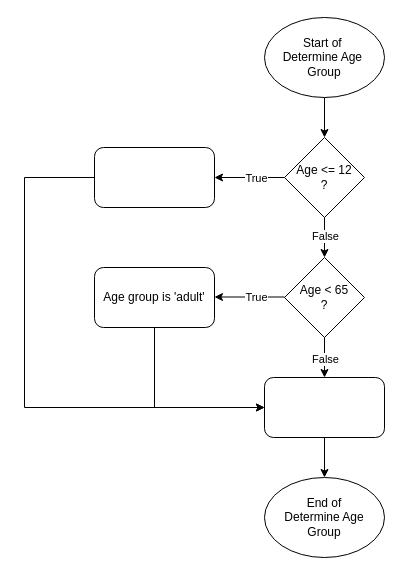
Some shapes in this 402 by 575 pixel diagram are drawn without their labels. The shapes that lost their labels are listed below. From the top down, each one's centre as x and y in pixels, then its label:
At pixel 154 177: "Age group is 'child'".
At pixel 324 407: "Age group is 'senior'".
